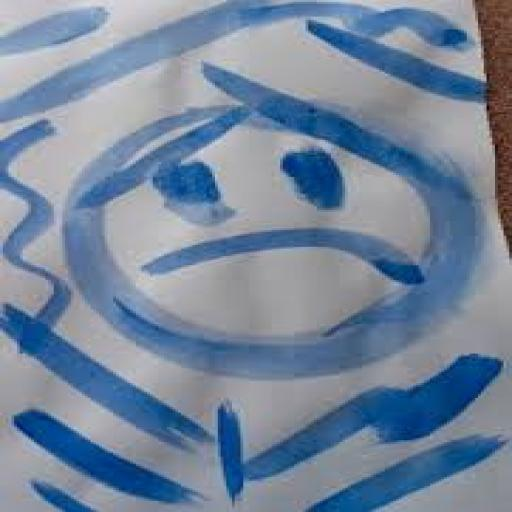person: (44, 58, 485, 510)
